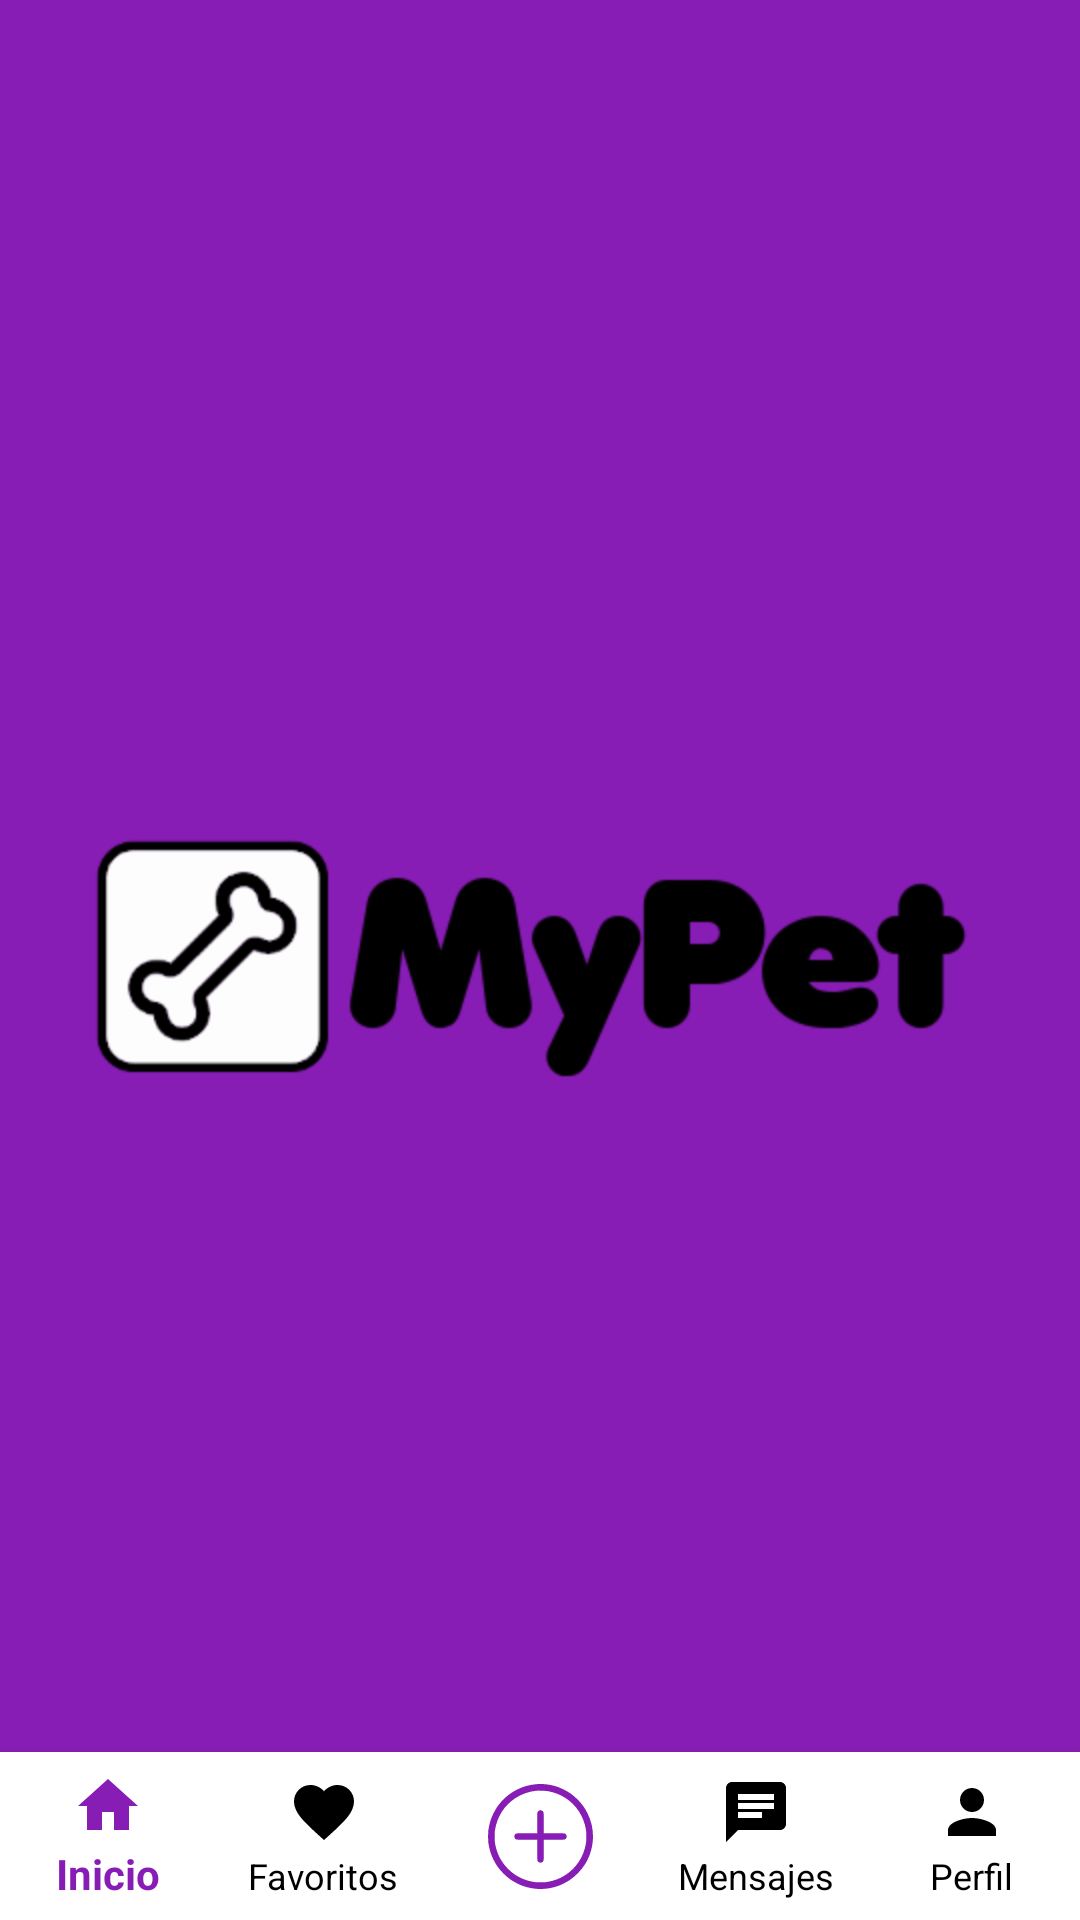

Named icons in this screenshot (1080 × 1920) and their bounding boxes, (x1, y1, x2, y2):
publicar: (488, 1784, 593, 1889)
